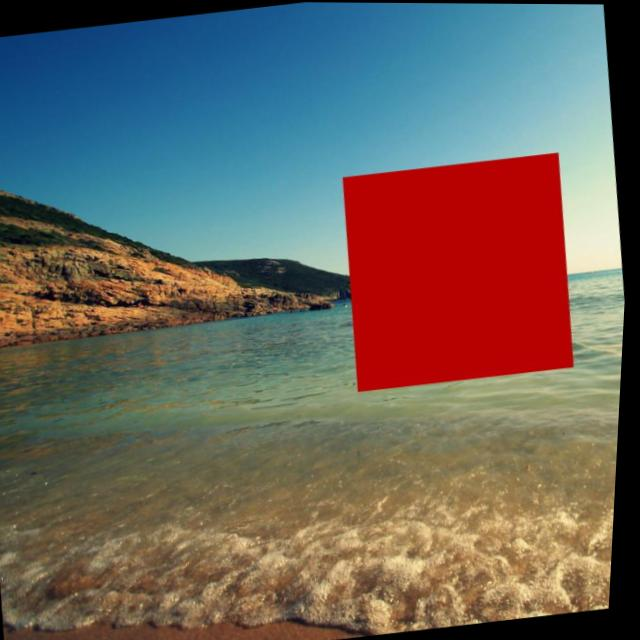RedSquare: (330, 143, 591, 399)
